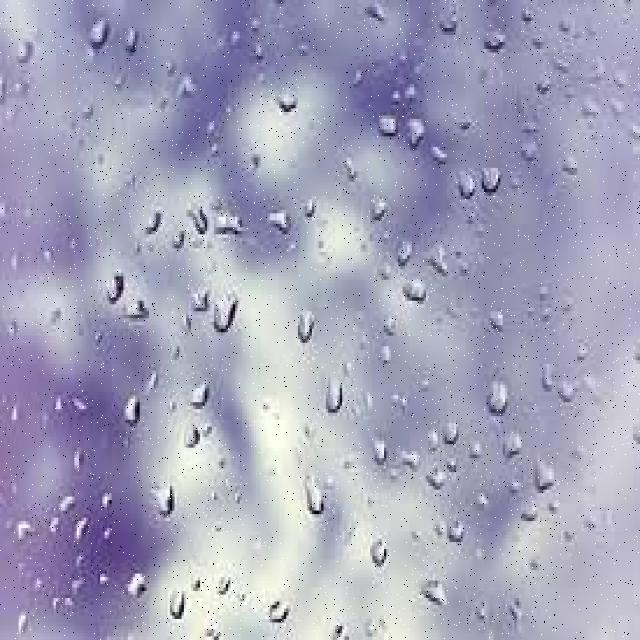raindrop: (413, 558, 460, 624), (258, 580, 310, 638), (495, 408, 537, 479), (295, 464, 336, 532), (206, 280, 250, 341), (73, 1, 117, 62), (177, 352, 216, 417), (253, 193, 303, 243), (142, 471, 184, 528), (366, 96, 404, 158), (158, 573, 193, 640), (172, 407, 216, 458), (483, 360, 518, 423), (398, 105, 434, 166), (112, 385, 152, 439), (287, 298, 322, 358), (316, 357, 349, 420), (215, 204, 253, 256), (448, 156, 484, 210), (477, 149, 512, 203), (398, 265, 432, 320), (530, 450, 564, 504), (364, 534, 400, 582), (103, 268, 133, 314)
